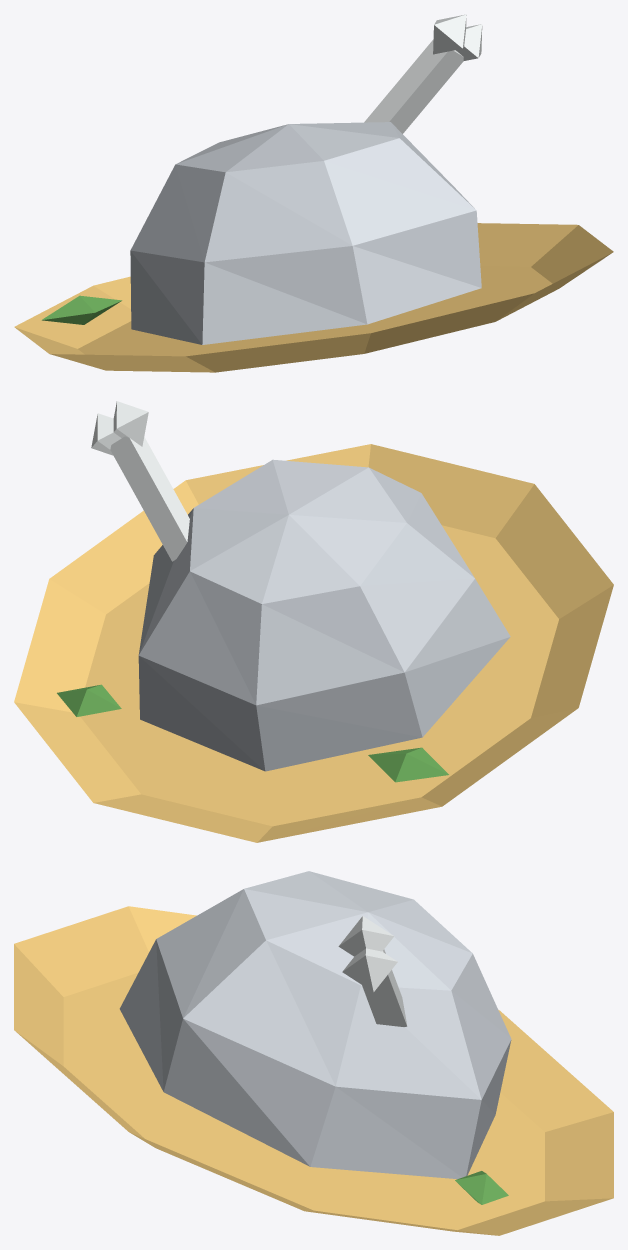
File: Feast.obj
The picture shows the model from 3 angles, top to bottom: view 1: azimuth 30°, elevation 25°; view 2: azimuth 150°, elevation 25°; view 3: azimuth 270°, elevation 25°; orthographic projection. The views are drawn at different scales.
Size of the model in its own units: 3.24 by 1.78 by 2.94.
